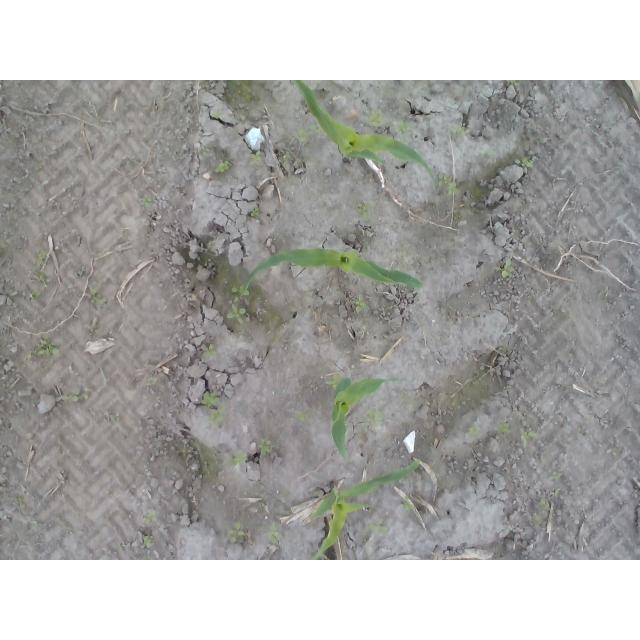Maize: (291, 80, 433, 178), (310, 462, 419, 560), (244, 248, 426, 293), (332, 376, 401, 463)
Weeds: (201, 391, 224, 426), (226, 288, 250, 321), (31, 335, 62, 358), (295, 122, 321, 145), (31, 272, 50, 301), (223, 520, 245, 545), (432, 175, 461, 193), (90, 288, 112, 307), (496, 255, 514, 277), (368, 408, 385, 431), (320, 367, 338, 388), (395, 118, 416, 134), (32, 249, 46, 273), (267, 521, 281, 545), (367, 111, 385, 129), (368, 521, 389, 536), (352, 201, 368, 220), (227, 448, 246, 464), (352, 295, 368, 314), (520, 431, 536, 449), (56, 391, 81, 402), (214, 159, 231, 174), (257, 437, 271, 455), (200, 343, 216, 358), (296, 409, 312, 423), (514, 157, 534, 168), (143, 511, 158, 525), (465, 423, 480, 437), (448, 127, 465, 138), (497, 423, 512, 434), (539, 496, 550, 511), (400, 500, 413, 511), (549, 471, 562, 481), (143, 535, 153, 547), (177, 448, 192, 456), (201, 144, 209, 158), (506, 80, 519, 88), (144, 197, 153, 208), (249, 208, 259, 217), (254, 151, 262, 162), (14, 495, 22, 506), (212, 111, 224, 117), (555, 485, 561, 495)
